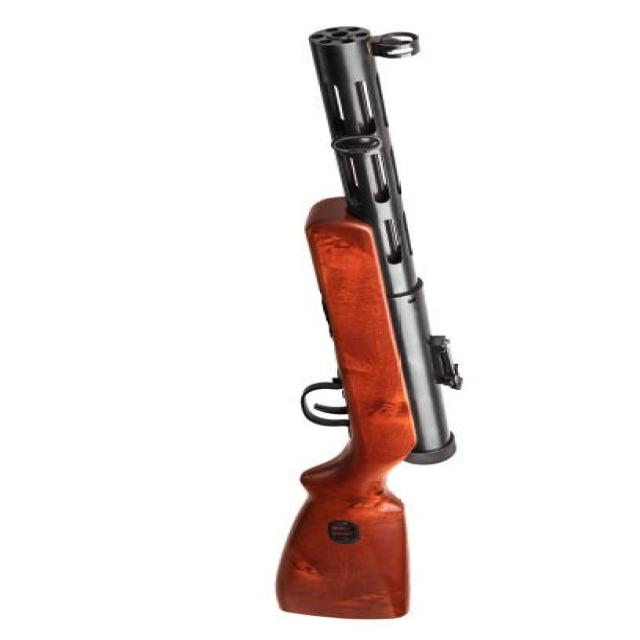rifle: (256, 19, 460, 627)
